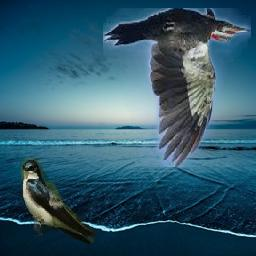Swallow: (21, 159, 95, 246)
Woodpecker: (103, 9, 251, 168)
